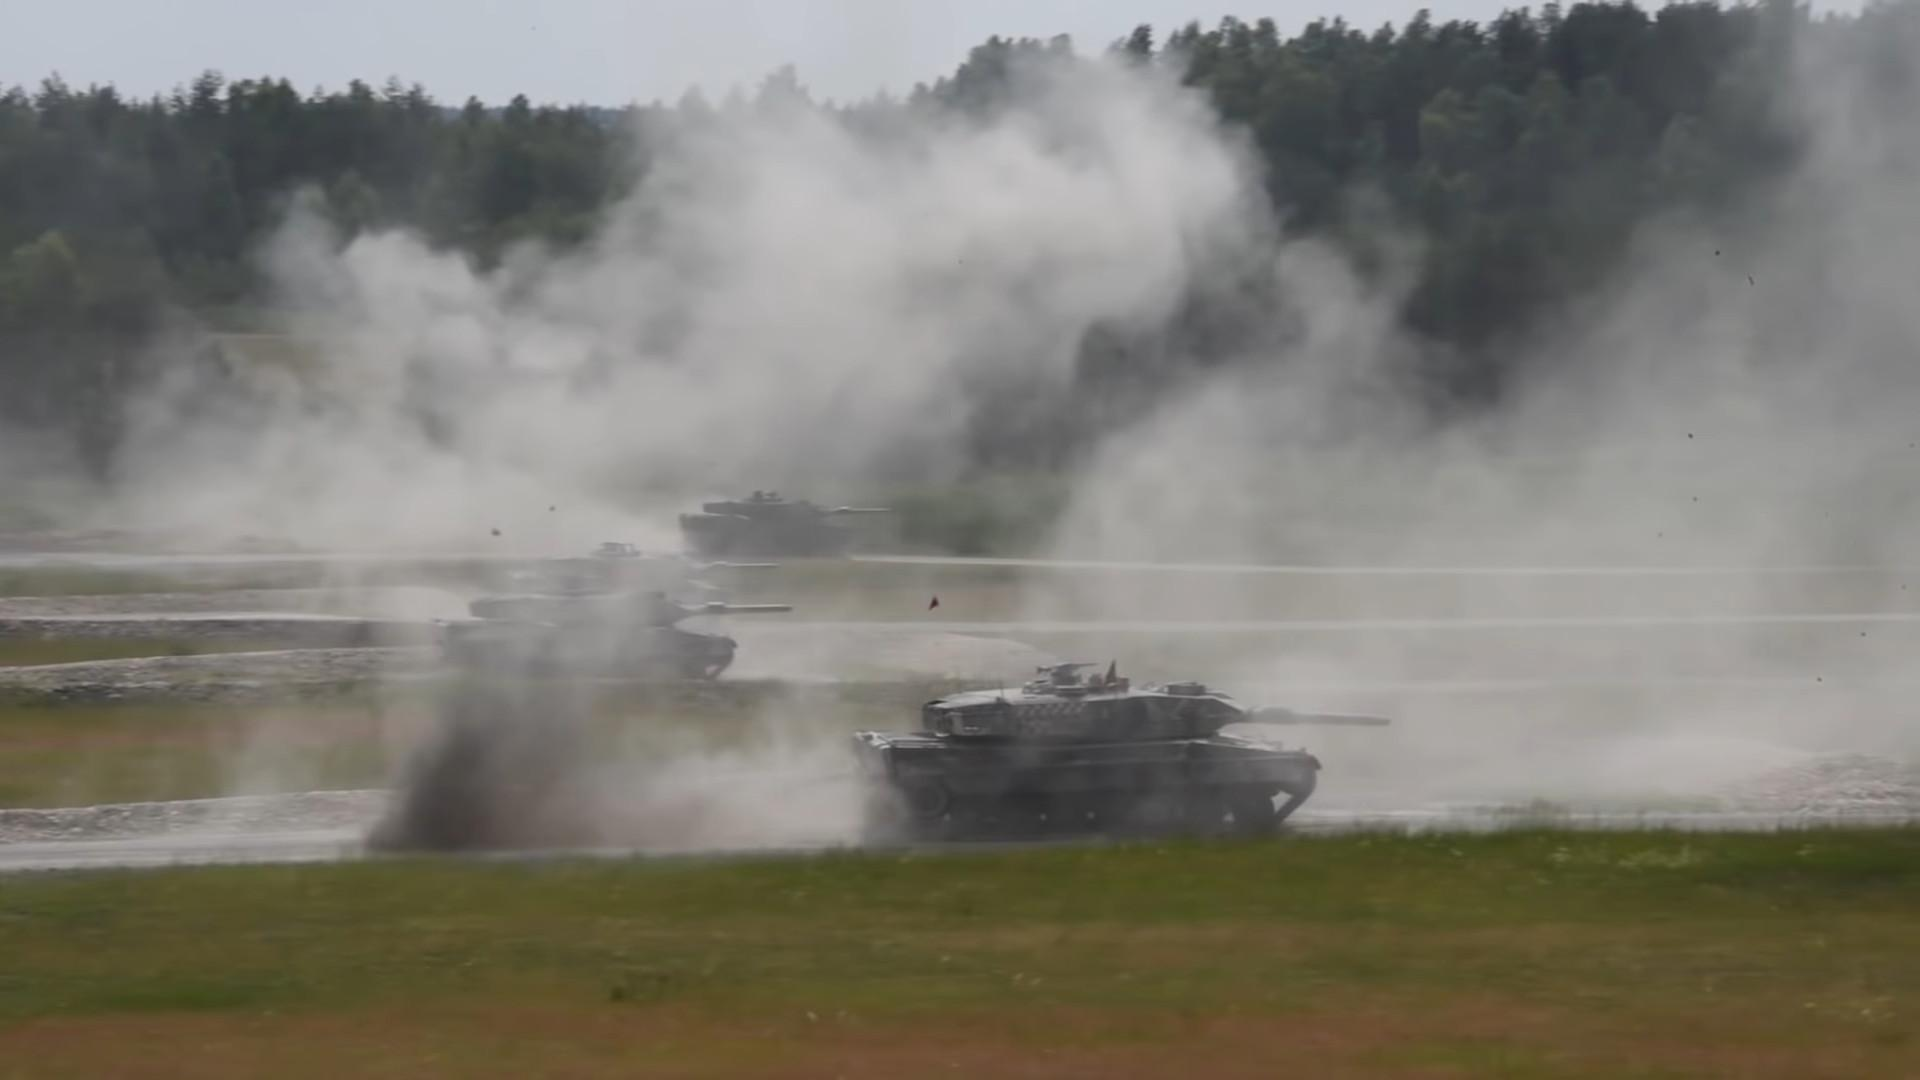tank: (851, 663, 1391, 829), (433, 592, 793, 679), (517, 543, 781, 600), (680, 491, 890, 555)
